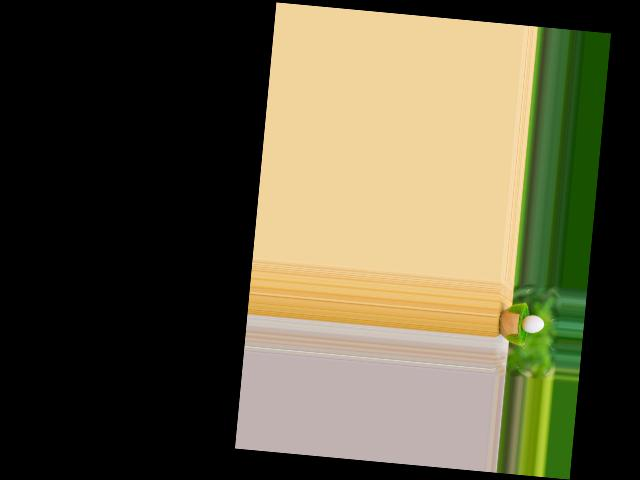egg: (520, 314, 544, 334)
